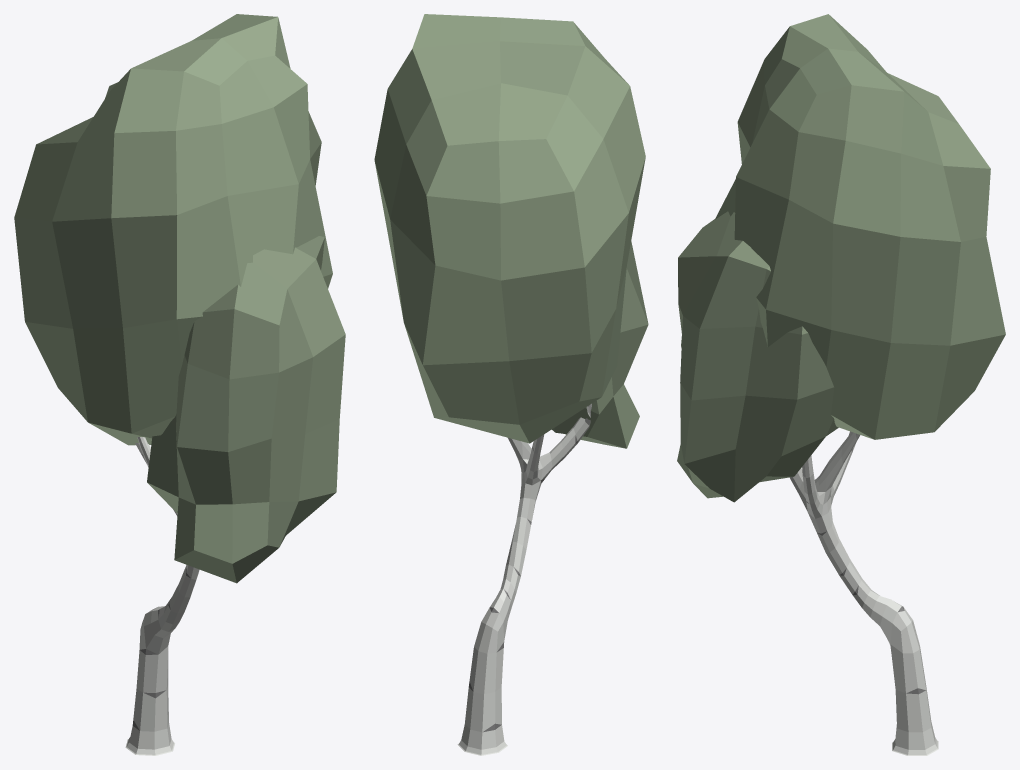
The model's file is model_birch.glb.
The picture shows the model from 3 angles, left to right: view 1: azimuth 30°, elevation 25°; view 2: azimuth 150°, elevation 25°; view 3: azimuth 270°, elevation 25°; orthographic projection. The views are drawn at different scales.
Parts seen in each view (by area): view 1: BirchTree_2; view 2: BirchTree_2; view 3: BirchTree_2.
Part boxes in pixels (bbox=[...]): BirchTree_2: bbox=[14, 14, 345, 755]; BirchTree_2: bbox=[374, 14, 648, 755]; BirchTree_2: bbox=[677, 14, 1005, 755].
Bounding box in the file's own units: 1.47 × 4.03 × 1.69.
